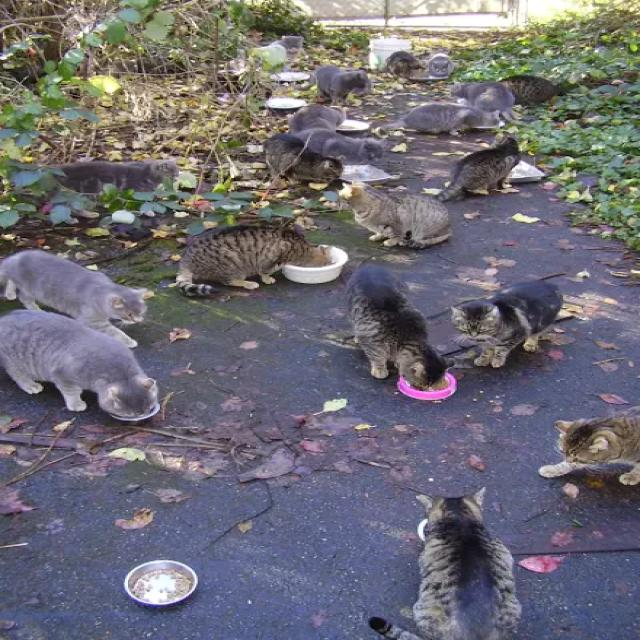cat: (0, 310, 158, 417), (413, 489, 521, 640), (0, 250, 153, 348), (348, 265, 448, 388), (176, 226, 331, 296), (451, 280, 563, 367), (539, 408, 640, 485), (340, 182, 451, 248), (290, 104, 385, 165), (441, 138, 521, 201), (58, 160, 178, 193), (378, 102, 499, 134), (266, 134, 343, 182), (310, 65, 371, 104), (454, 82, 514, 121), (501, 75, 561, 104), (386, 51, 423, 78), (428, 54, 454, 77), (280, 36, 303, 51)
